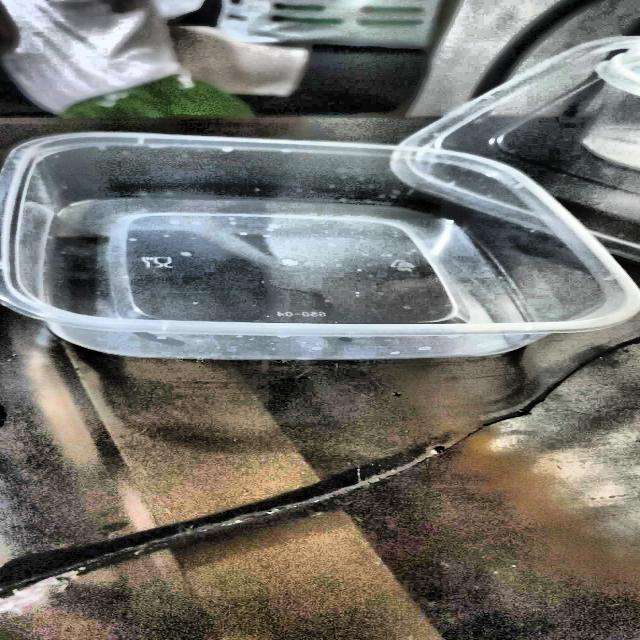plastic container: (3, 134, 638, 359)
